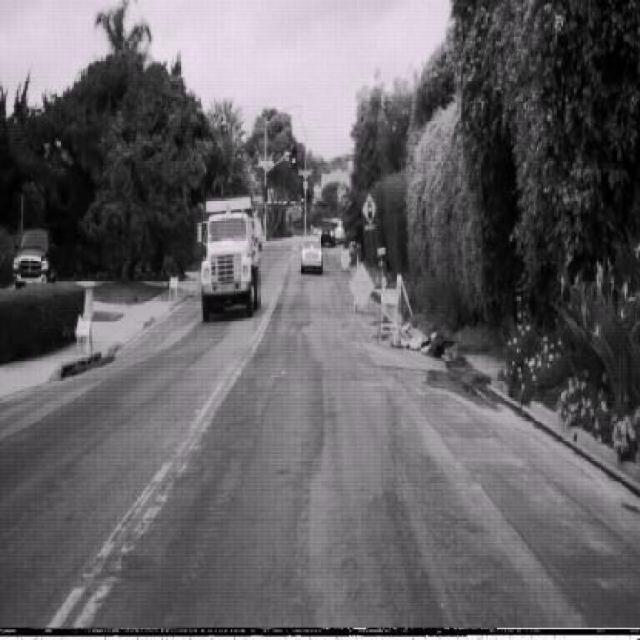signalAhead: (361, 192, 377, 225)
